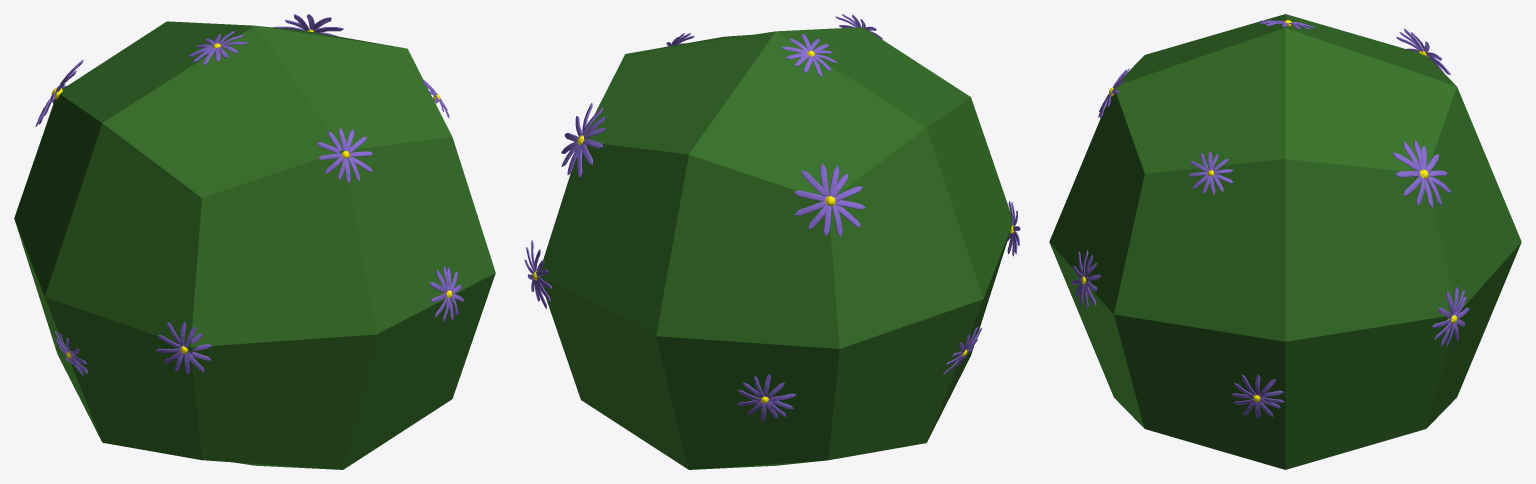
File: arbusto_flores_violetas.fbx
3 renders of one model, left to right at view 1: azimuth 30°, elevation 25°; view 2: azimuth 150°, elevation 25°; view 3: azimuth 270°, elevation 25°, orthographic. The views are drawn at different scales.
Visible parts, largest first — view 1: Cube.188; view 2: Cube.188; view 3: Cube.188.
Boxes of the visible parts, x1,y1,x2,y2 form: Cube.188: (14,14,495,469); Cube.188: (524,14,1020,469); Cube.188: (1049,14,1521,469).
Bounding box in the file's own units: 168 × 168 × 168.
